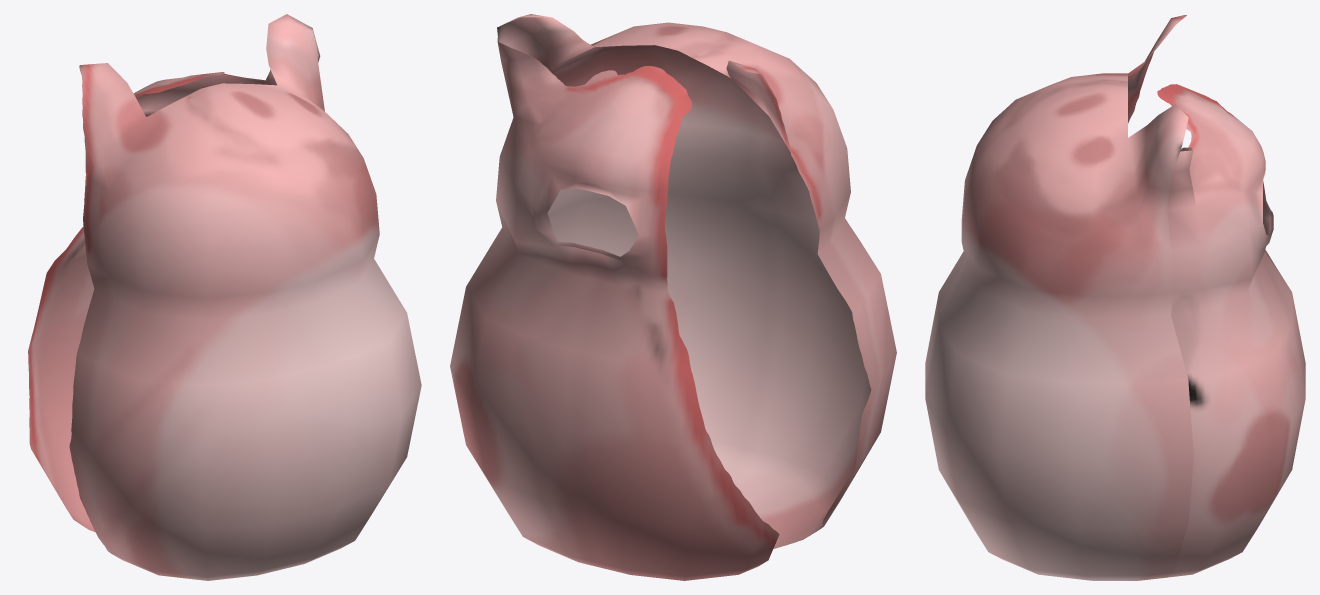
The model's file is pig.fbx.
3 renders of one model, left to right at view 1: azimuth 30°, elevation 25°; view 2: azimuth 150°, elevation 25°; view 3: azimuth 270°, elevation 25°, orthographic. The views are drawn at different scales.
Parts seen in each view (by area): view 1: Cylinder.002; view 2: Cylinder.002; view 3: Cylinder.002.
Boxes of the visible parts, x1,y1,x2,y2 form: Cylinder.002: [28, 14, 421, 580]; Cylinder.002: [450, 14, 896, 580]; Cylinder.002: [925, 15, 1305, 580].
Size of the model in its own units: 2.7 by 3.77 by 2.7.
